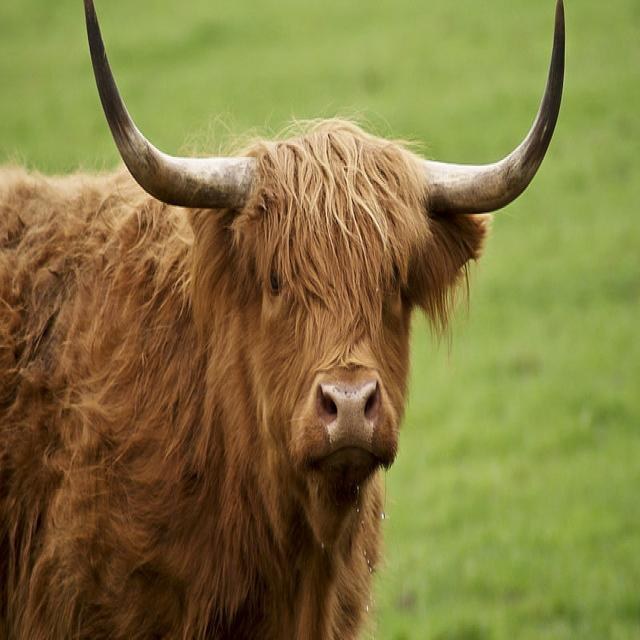cow: (0, 0, 565, 630)
